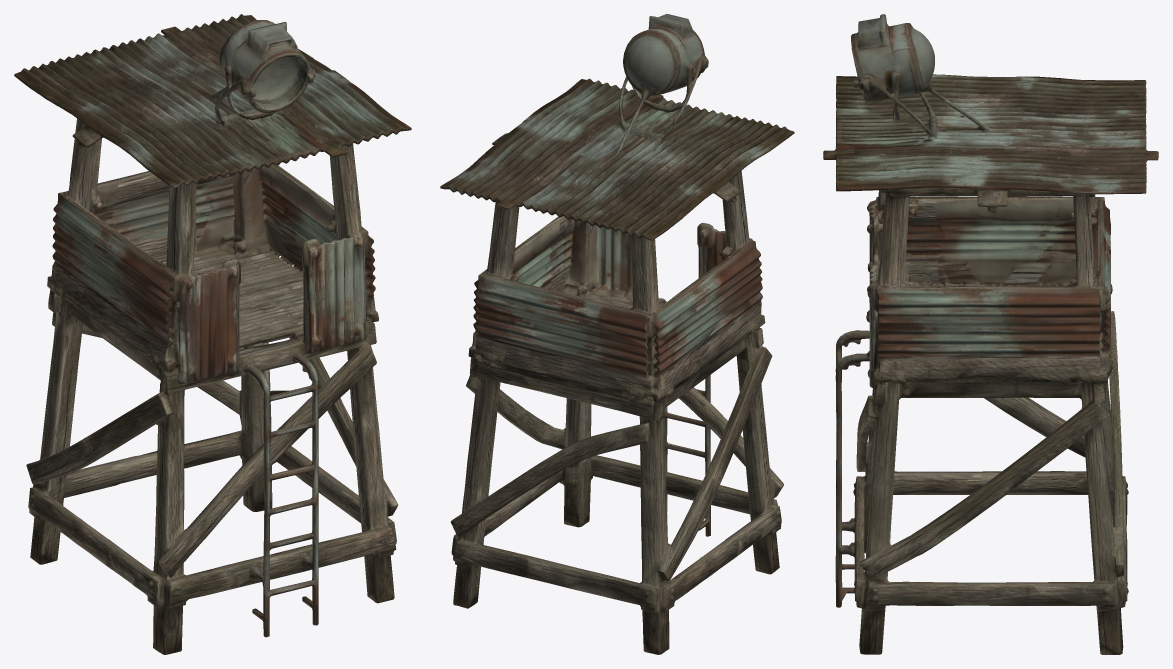
Rendered from building_watchtower_t1.glb.
The picture shows the model from 3 angles, left to right: view 1: azimuth 30°, elevation 25°; view 2: azimuth 150°, elevation 25°; view 3: azimuth 270°, elevation 25°; orthographic projection. The views are drawn at different scales.
Visible parts, largest first — view 1: Mesh_0; view 2: Mesh_0; view 3: Mesh_0.
Boxes of the visible parts, left/top/right/bottom form: Mesh_0: left=14, top=14, right=411, bottom=654; Mesh_0: left=440, top=14, right=794, bottom=654; Mesh_0: left=823, top=14, right=1158, bottom=654.
Bounding box in the file's own units: 3.3 × 7 × 3.68.
1 material, 1 textured.
